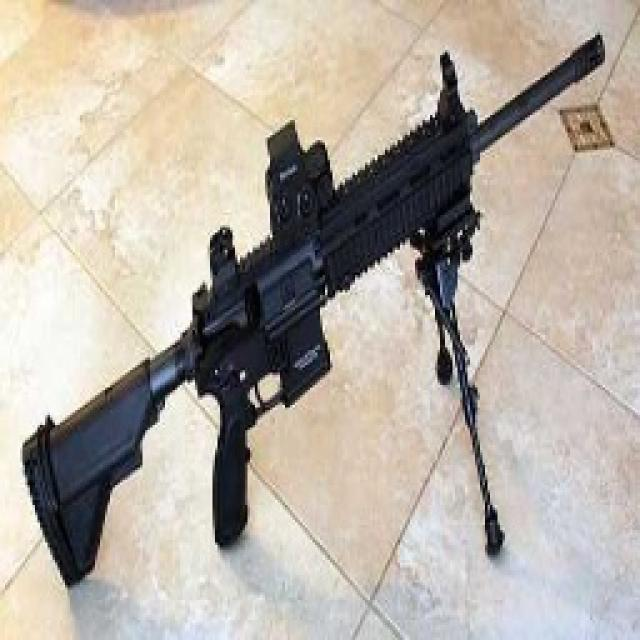long weapon: (0, 39, 611, 588)
